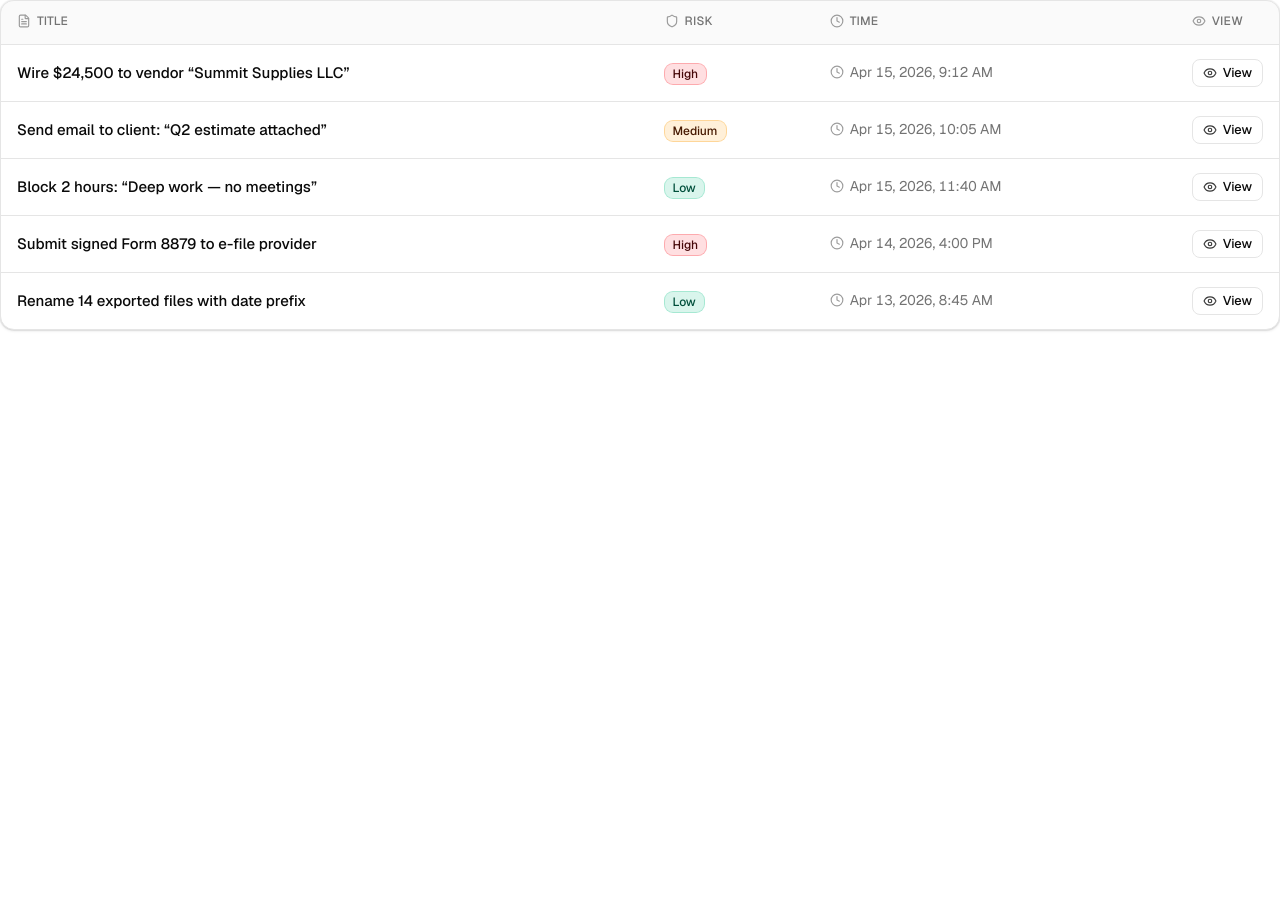
Approval inbox flow (integration) › opens the drawer from a row click and closes it from the close control
This screenshot has width=1280, height=900.
Click the 2nd row: (640, 73) [1,44,1279,102]
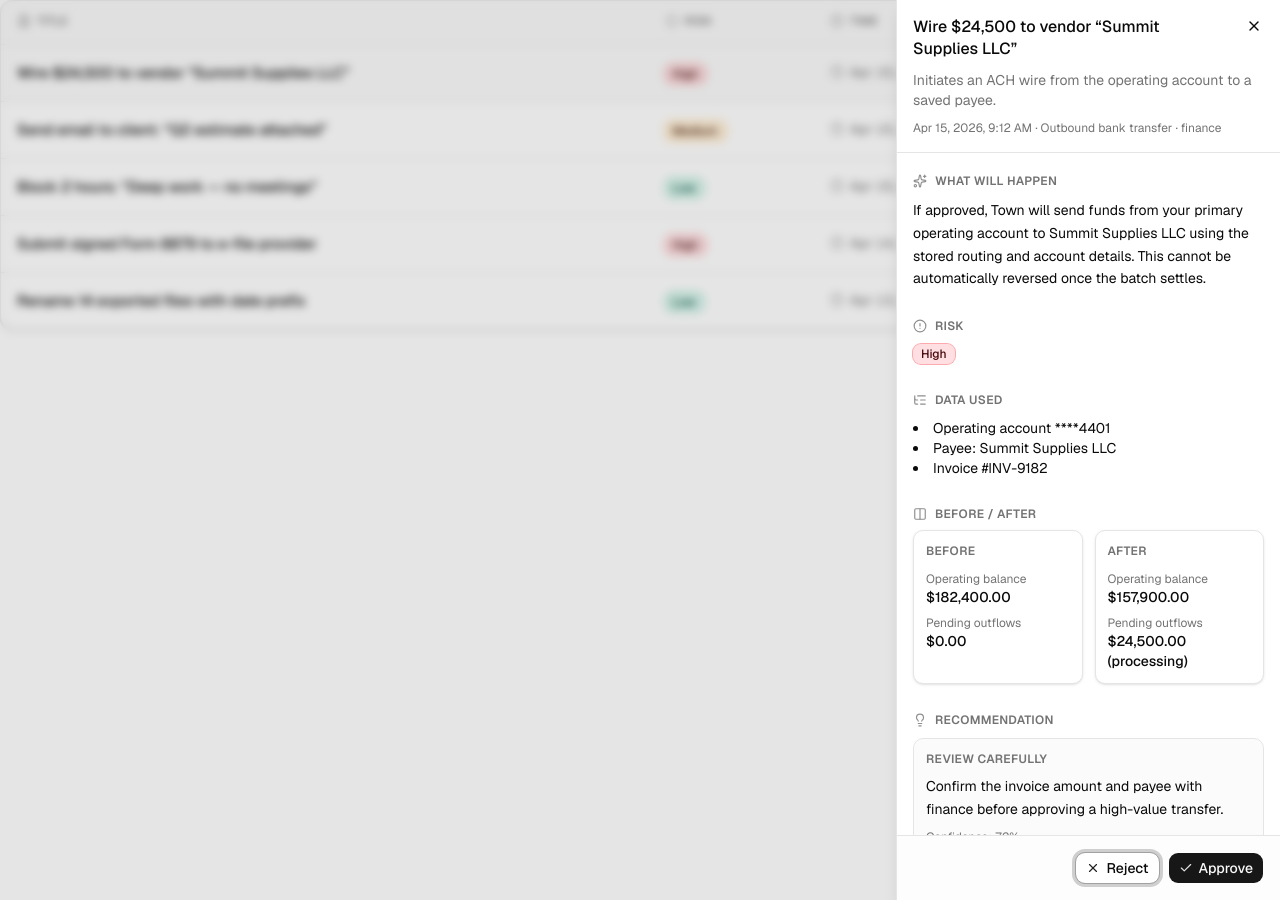
Expected: the dialog is shown, [896,0,1279,899]
Click the button named "close": (1254, 26) [1240,12,1268,40]
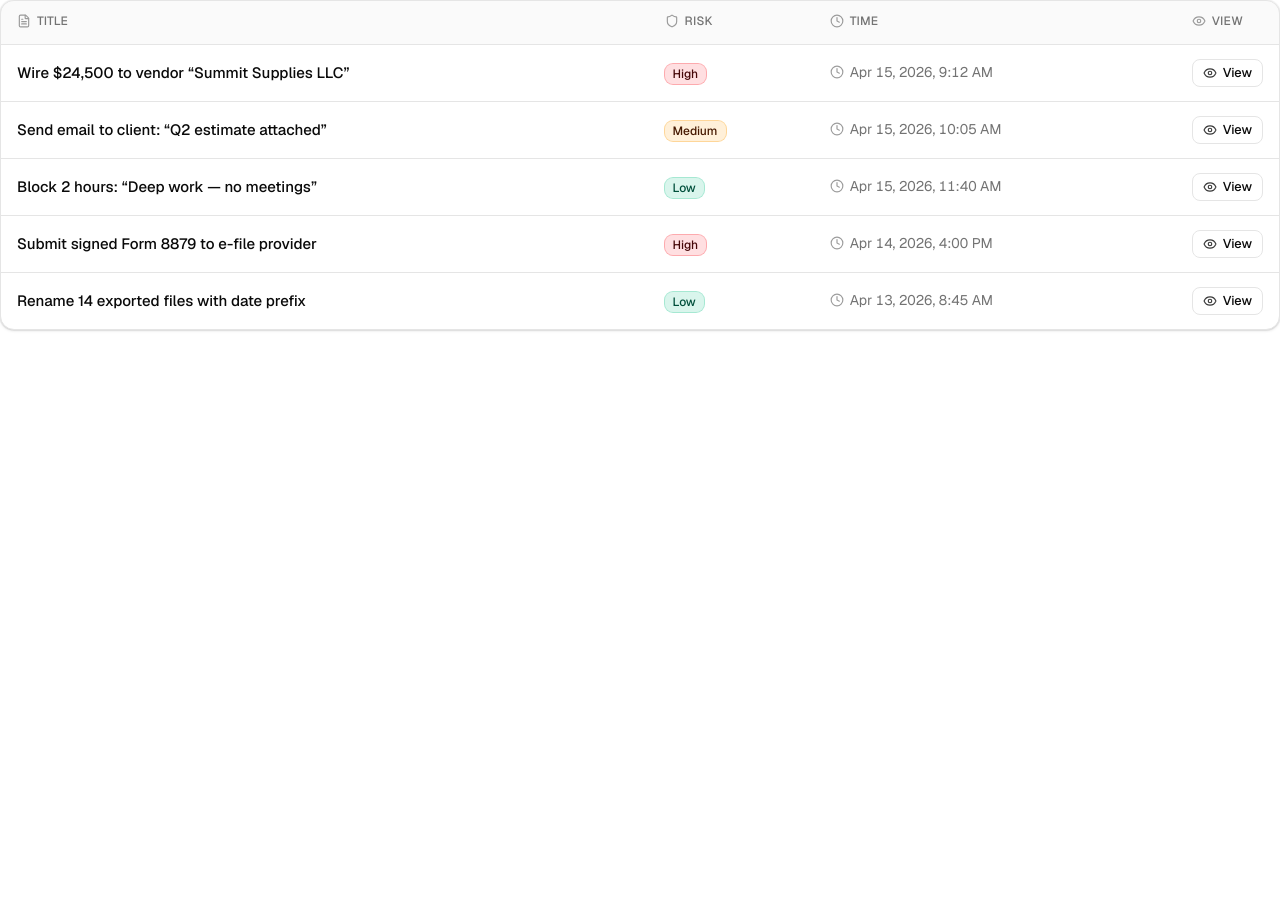
Expected: the dialog is gone
